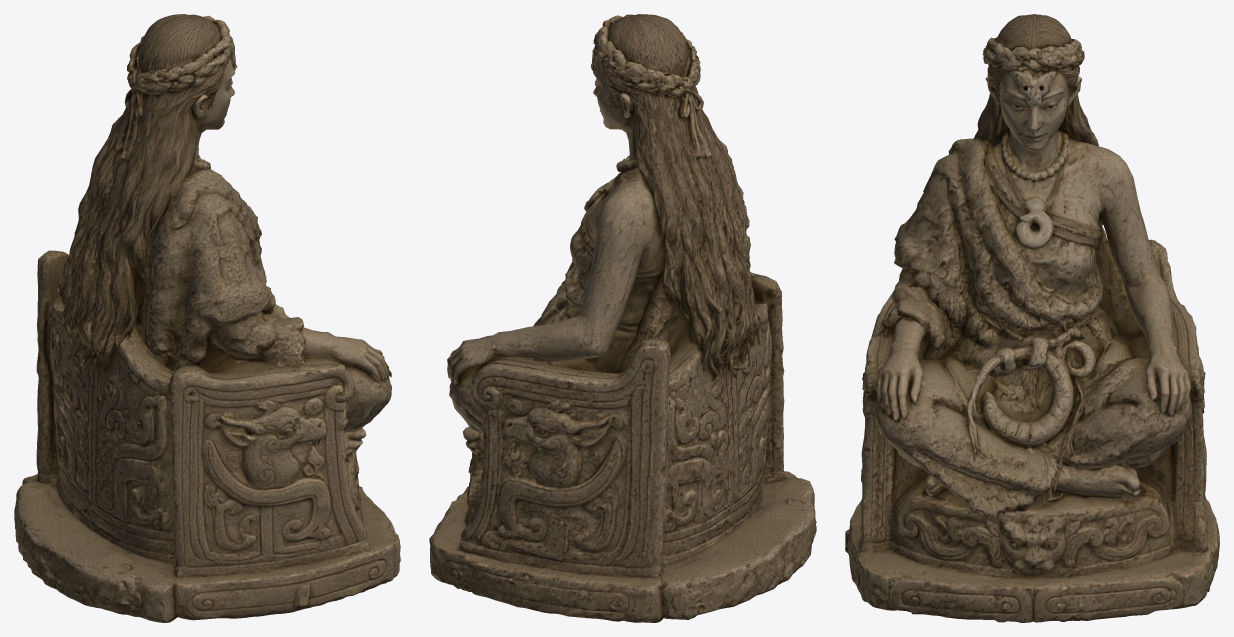
File: stone_goddess_statue_3d_model.fbx
3 views of the same model, side by side, from view 1: azimuth 30°, elevation 25°; view 2: azimuth 150°, elevation 25°; view 3: azimuth 270°, elevation 25° (orthographic).
Parts seen in each view (by area): view 1: tripo_node_b1531ed3; view 2: tripo_node_b1531ed3; view 3: tripo_node_b1531ed3.
Part boxes in pixels (x1=…): tripo_node_b1531ed3: x1=14, y1=14, x2=400, y2=622; tripo_node_b1531ed3: x1=429, y1=14, x2=816, y2=622; tripo_node_b1531ed3: x1=845, y1=14, x2=1219, y2=622.
Bounding box in the file's own units: 0.5902 × 0.9785 × 0.6322.
